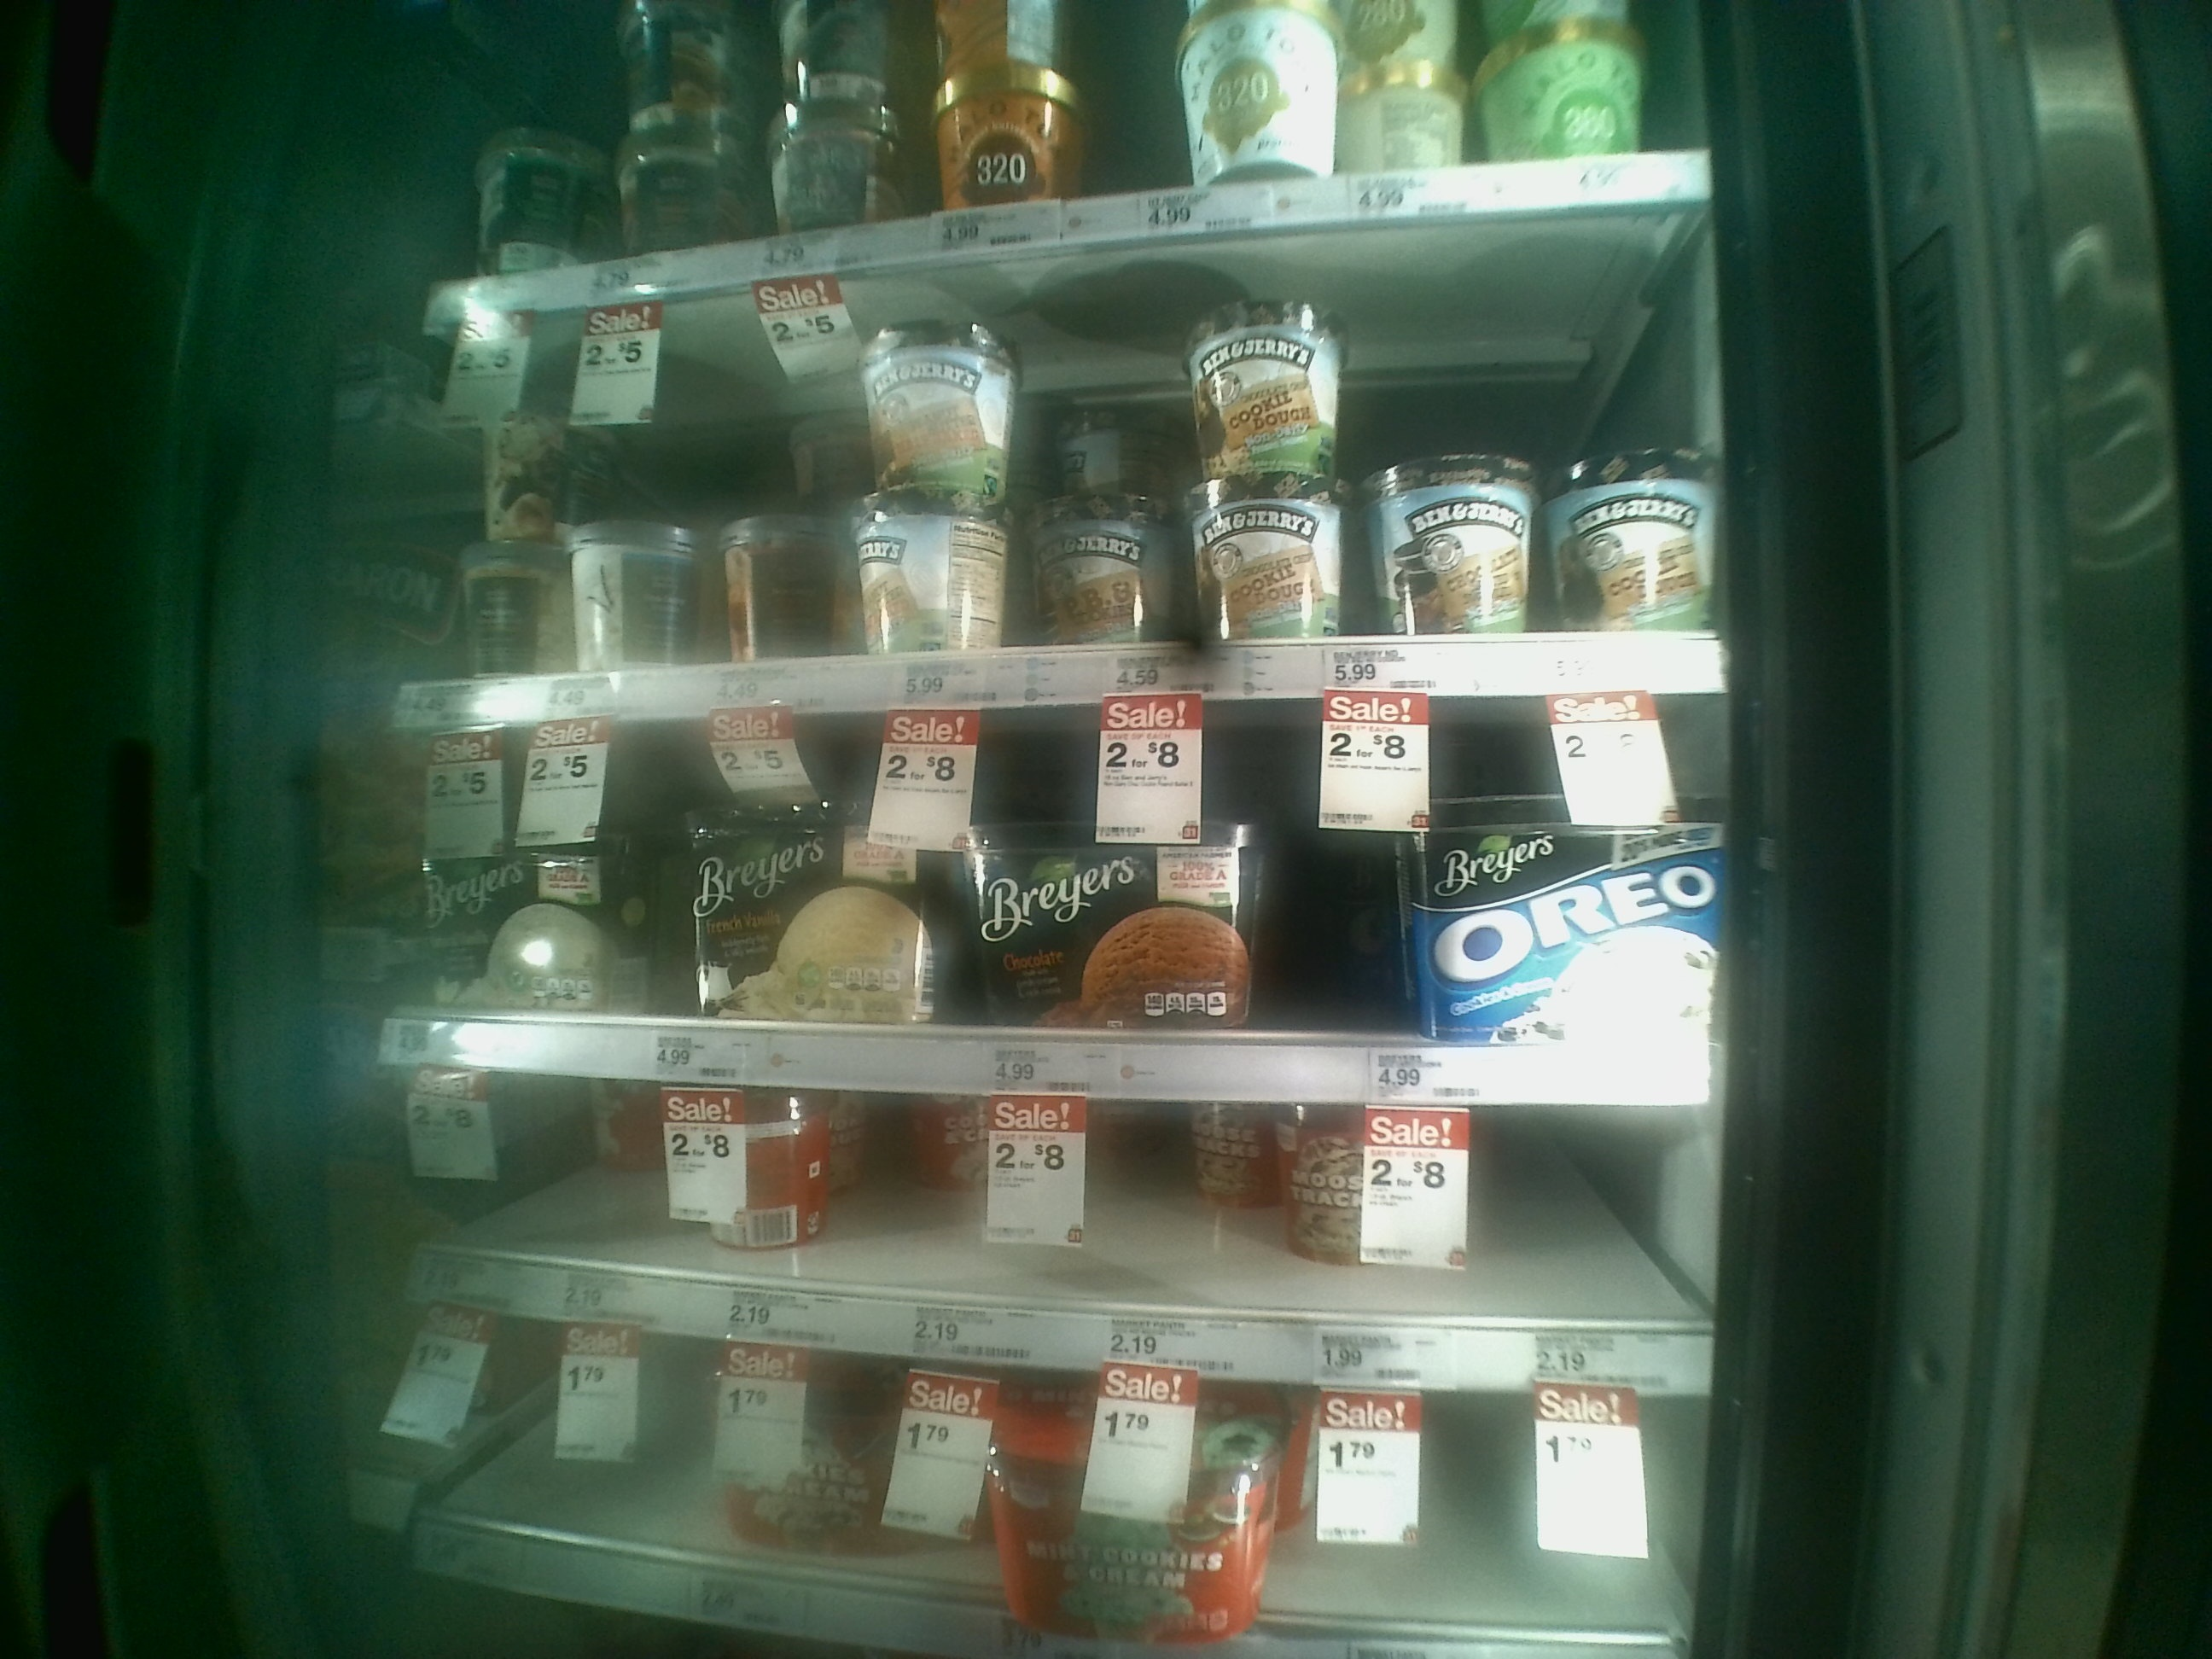ice-cream-shelf: (397, 240, 1717, 706), (381, 699, 1730, 1079)
